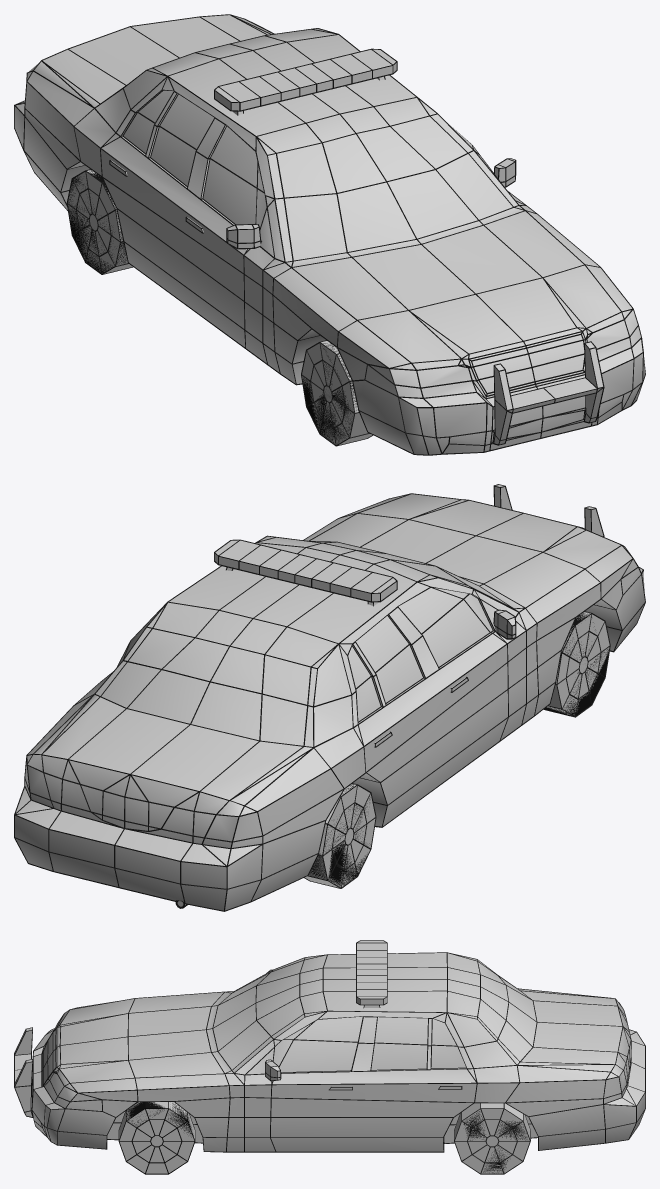
Rendered from policesedan.fbx.
The picture shows the model from 3 angles, top to bottom: view 1: azimuth 30°, elevation 25°; view 2: azimuth 150°, elevation 25°; view 3: azimuth 270°, elevation 25°; orthographic projection. The views are drawn at different scales.
Parts seen in each view (by area): view 1: Cube.000, Cylinder.004, Cylinder.005, Cylinder.000, Cylinder.001; view 2: Cube.000, Cylinder.005, Cylinder.004, Cylinder.001, Cylinder.000; view 3: Cube.000, Cylinder.007, Cylinder.006, Cylinder.003, Cylinder.002.
Boxes of the visible parts, x1,y1,x2,y2 form: Cube.000: (14,14,645,455); Cylinder.004: (301,340,373,446); Cylinder.005: (66,169,133,274); Cylinder.000: (303,343,357,443); Cylinder.001: (68,170,126,272); Cube.000: (14,484,645,911); Cylinder.005: (304,783,376,888); Cylinder.004: (543,611,610,717); Cylinder.001: (309,784,370,886); Cylinder.000: (544,612,609,716); Cube.000: (14,940,645,1152); Cylinder.007: (454,1103,530,1174); Cylinder.006: (118,1102,195,1174); Cylinder.003: (463,1111,527,1173); Cylinder.002: (126,1102,193,1137).
Size of what is drawn, in the model's own units: 255 by 189 by 674.
26 materials, 8 textured.
